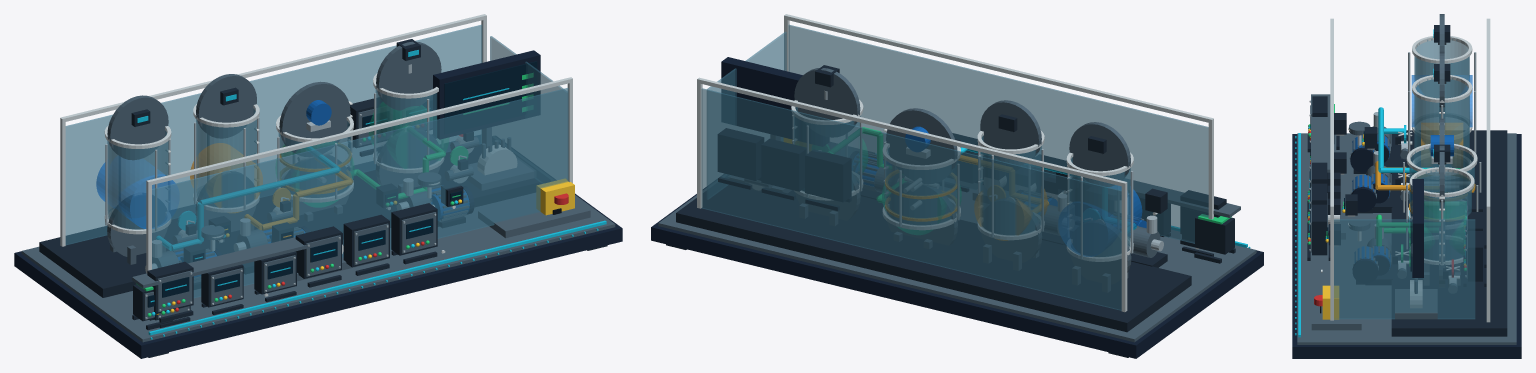
Rendered from Level67_Complete_ArtKit_Showcase.fbx.
3 renders of one model, left to right at view 1: azimuth 30°, elevation 25°; view 2: azimuth 150°, elevation 25°; view 3: azimuth 270°, elevation 25°, orthographic. The views are drawn at different scales.
Parts seen in each view (by area): view 1: L67_006_glass, L67_014_steel, L67_005_dark, L67_010_navy, L67_003_chrome, L67_012_screen, L67_031_glass_ANIM_SAFETY_DOOR, L67_004_cyan, L67_015_water, L67_013_silver, L67_009_mixwater, L67_000_amberwater (+4 smaller); view 2: L67_006_glass, L67_005_dark, L67_014_steel, L67_010_navy, L67_003_chrome, L67_031_glass_ANIM_SAFETY_DOOR, L67_015_water, L67_013_silver, L67_002_blue, L67_007_gold, L67_000_amberwater, L67_008_green (+1 smaller); view 3: L67_014_steel, L67_005_dark, L67_031_glass_ANIM_SAFETY_DOOR, L67_010_navy, L67_006_glass, L67_003_chrome, L67_013_silver, L67_004_cyan, L67_009_mixwater, L67_002_blue, L67_000_amberwater, L67_008_green (+4 smaller).
Part boxes in pixels (x1,y1,x2,y2): L67_006_glass: (65,24,568,297); L67_014_steel: (21,41,615,342); L67_005_dark: (39,39,607,357); L67_010_navy: (14,50,622,358); L67_003_chrome: (60,14,572,296); L67_012_screen: (147,61,537,307); L67_031_glass_ANIM_SAFETY_DOOR: (490,36,567,183); L67_004_cyan: (137,50,606,339); L67_015_water: (96,156,179,228); L67_013_silver: (105,64,473,319); L67_009_mixwater: (275,102,448,207); L67_000_amberwater: (190,143,262,212); L67_006_glass: (701,24,1208,310); L67_005_dark: (666,65,1235,357); L67_014_steel: (658,68,1256,342); L67_010_navy: (651,57,1263,358); L67_003_chrome: (697,14,1213,312); L67_031_glass_ANIM_SAFETY_DOOR: (707,31,786,199); L67_015_water: (1058,186,1142,256); L67_013_silver: (749,90,1163,258); L67_002_blue: (862,126,1146,235); L67_007_gold: (885,155,1048,221); L67_000_amberwater: (974,189,1047,240); L67_008_green: (862,127,1231,224); L67_014_steel: (1297,14,1516,344); L67_005_dark: (1307,25,1507,336); L67_031_glass_ANIM_SAFETY_DOOR: (1334,219,1475,319); L67_010_navy: (1292,134,1521,358); L67_006_glass: (1409,39,1474,260); L67_003_chrome: (1321,18,1490,322); L67_013_silver: (1309,52,1481,283); L67_004_cyan: (1295,29,1465,337); L67_009_mixwater: (1424,168,1466,254); L67_002_blue: (1352,134,1453,266); L67_000_amberwater: (1421,123,1463,167); L67_008_green: (1307,104,1466,270).
Bounding box in the file's own units: 13.6 × 5.03 × 6.2.
